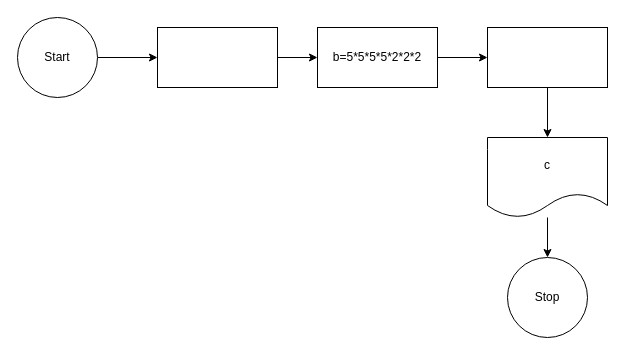
The diagram is 625 pixels wide and 355 high, and some of its shapes have lost their labels. Each missing label, with the centre of its shape:
a=5*5*5*2*2*2*2: the point at 217,57
c=(a+b)/35: the point at 547,57
